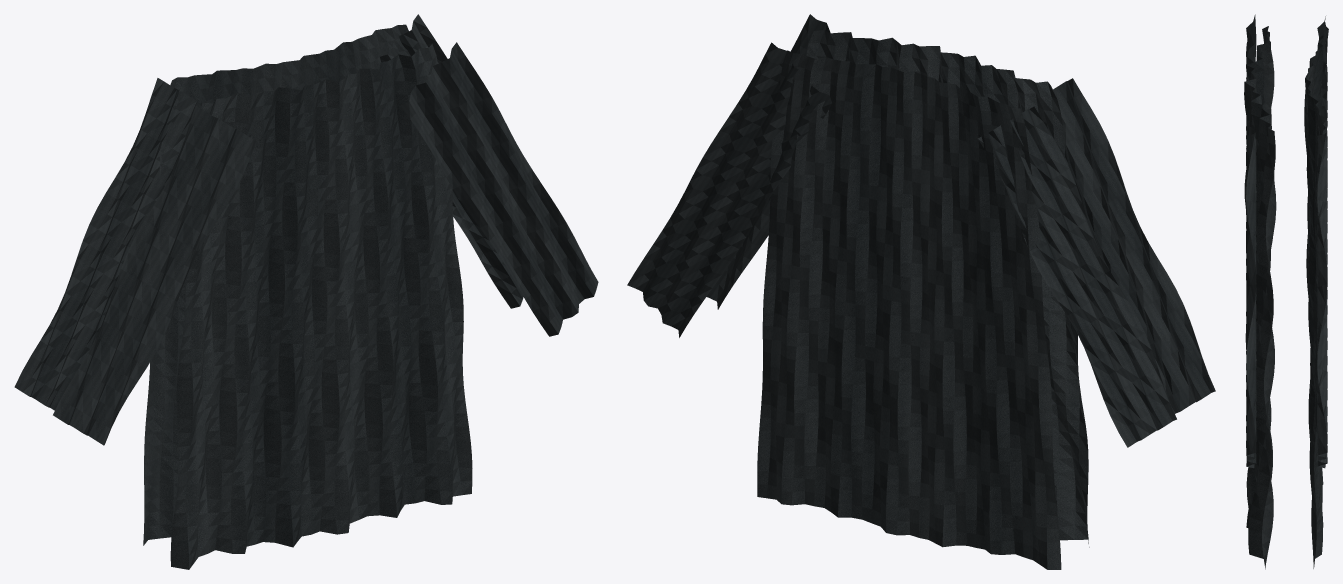
Rendered from 01-washed-charcoal.glb.
3 views of the same model, side by side, from view 1: azimuth 30°, elevation 25°; view 2: azimuth 150°, elevation 25°; view 3: azimuth 270°, elevation 25° (orthographic). The views are drawn at different scales.
Parts seen in each view (by area): view 1: 01-washed-charcoal; view 2: 01-washed-charcoal; view 3: 01-washed-charcoal.
Boxes of the visible parts, <box> form: 01-washed-charcoal: <box>14,14,598,569</box>; 01-washed-charcoal: <box>627,14,1215,569</box>; 01-washed-charcoal: <box>1244,14,1328,569</box>.
Bounding box in the file's own units: 2.2 × 1.78 × 0.3191.
Materials: 1 (1 with a texture image).
